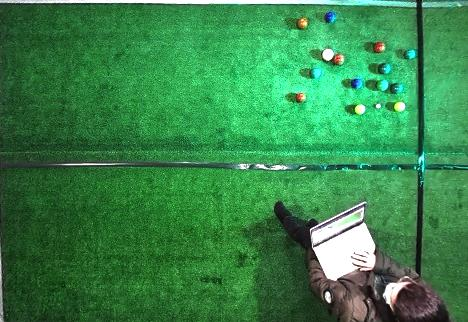blue: (324, 12, 336, 23), (351, 78, 362, 89)
green: (376, 80, 389, 91), (378, 63, 390, 74), (391, 83, 403, 94), (404, 49, 415, 59), (310, 68, 320, 78)
red: (321, 49, 334, 61), (296, 17, 308, 29), (373, 42, 386, 53), (333, 54, 344, 65), (296, 93, 306, 103)
vline: (415, 1, 467, 272), (0, 1, 7, 321)
white: (376, 103, 381, 108)
yellow: (355, 104, 365, 115), (394, 102, 405, 112)
